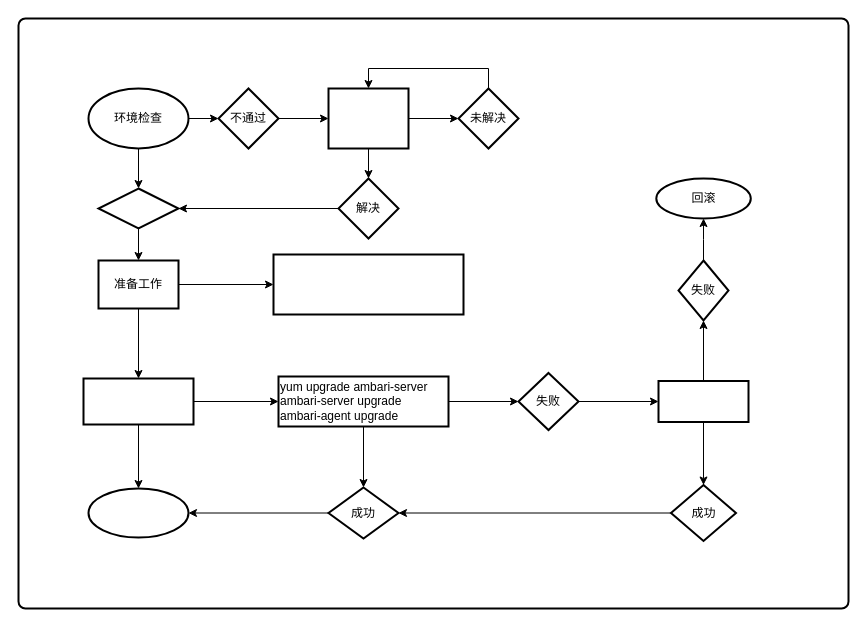
Some shapes in this 866 by 626 pixel diagram are drawn without their labels. The shapes that lost their labels are listed below. From the top down, each one's centre as x and y in pixels, then its label:
At point 368,118: "解决环境问题".
At point 138,208: "通过".
At point 368,284: "1.确认有集群sudo权限的用户 2.主节点备份 KDE Manager数据库 3.每个节点备份ambari.property 4.上传新的镜像".
At point 138,401: "KDE Manager升级".
At point 703,401: "升级失败问题解决".
At point 138,512: "升级成功".
